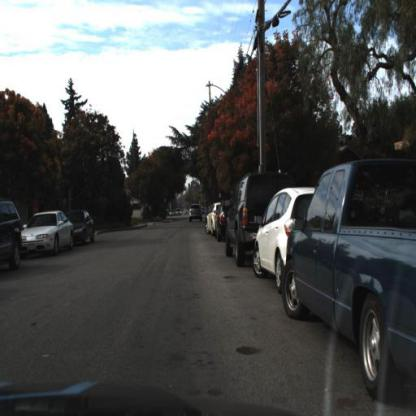car: (281, 158, 415, 400), (250, 180, 320, 296), (221, 169, 268, 259), (22, 207, 76, 258), (0, 200, 23, 272), (66, 208, 96, 250), (187, 201, 204, 227)
